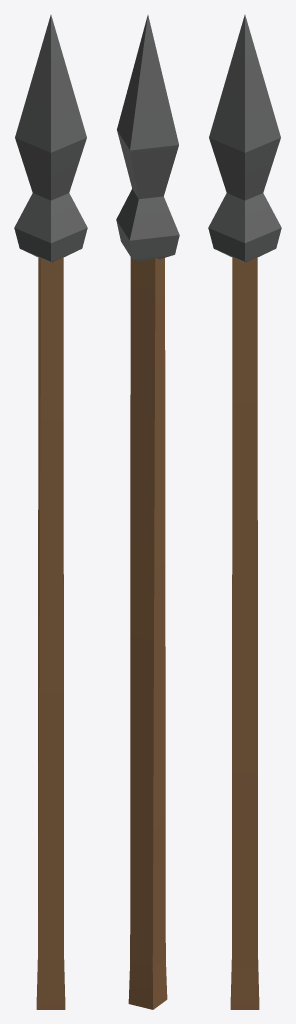
Rendered from Weapon_C.fbx.
The picture shows the model from 3 angles, left to right: view 1: azimuth 90°, elevation 25°; view 2: azimuth 150°, elevation 25°; view 3: azimuth 270°, elevation 25°; orthographic projection.
Visible parts, largest first — view 1: Weapon_C; view 2: Weapon_C; view 3: Weapon_C.
Boxes of the visible parts, <box> form: Weapon_C: <box>14,15,87,1009</box>; Weapon_C: <box>116,15,179,1009</box>; Weapon_C: <box>208,15,281,1009</box>.
Bounding box in the file's own units: 13.48 × 200 × 13.48.
